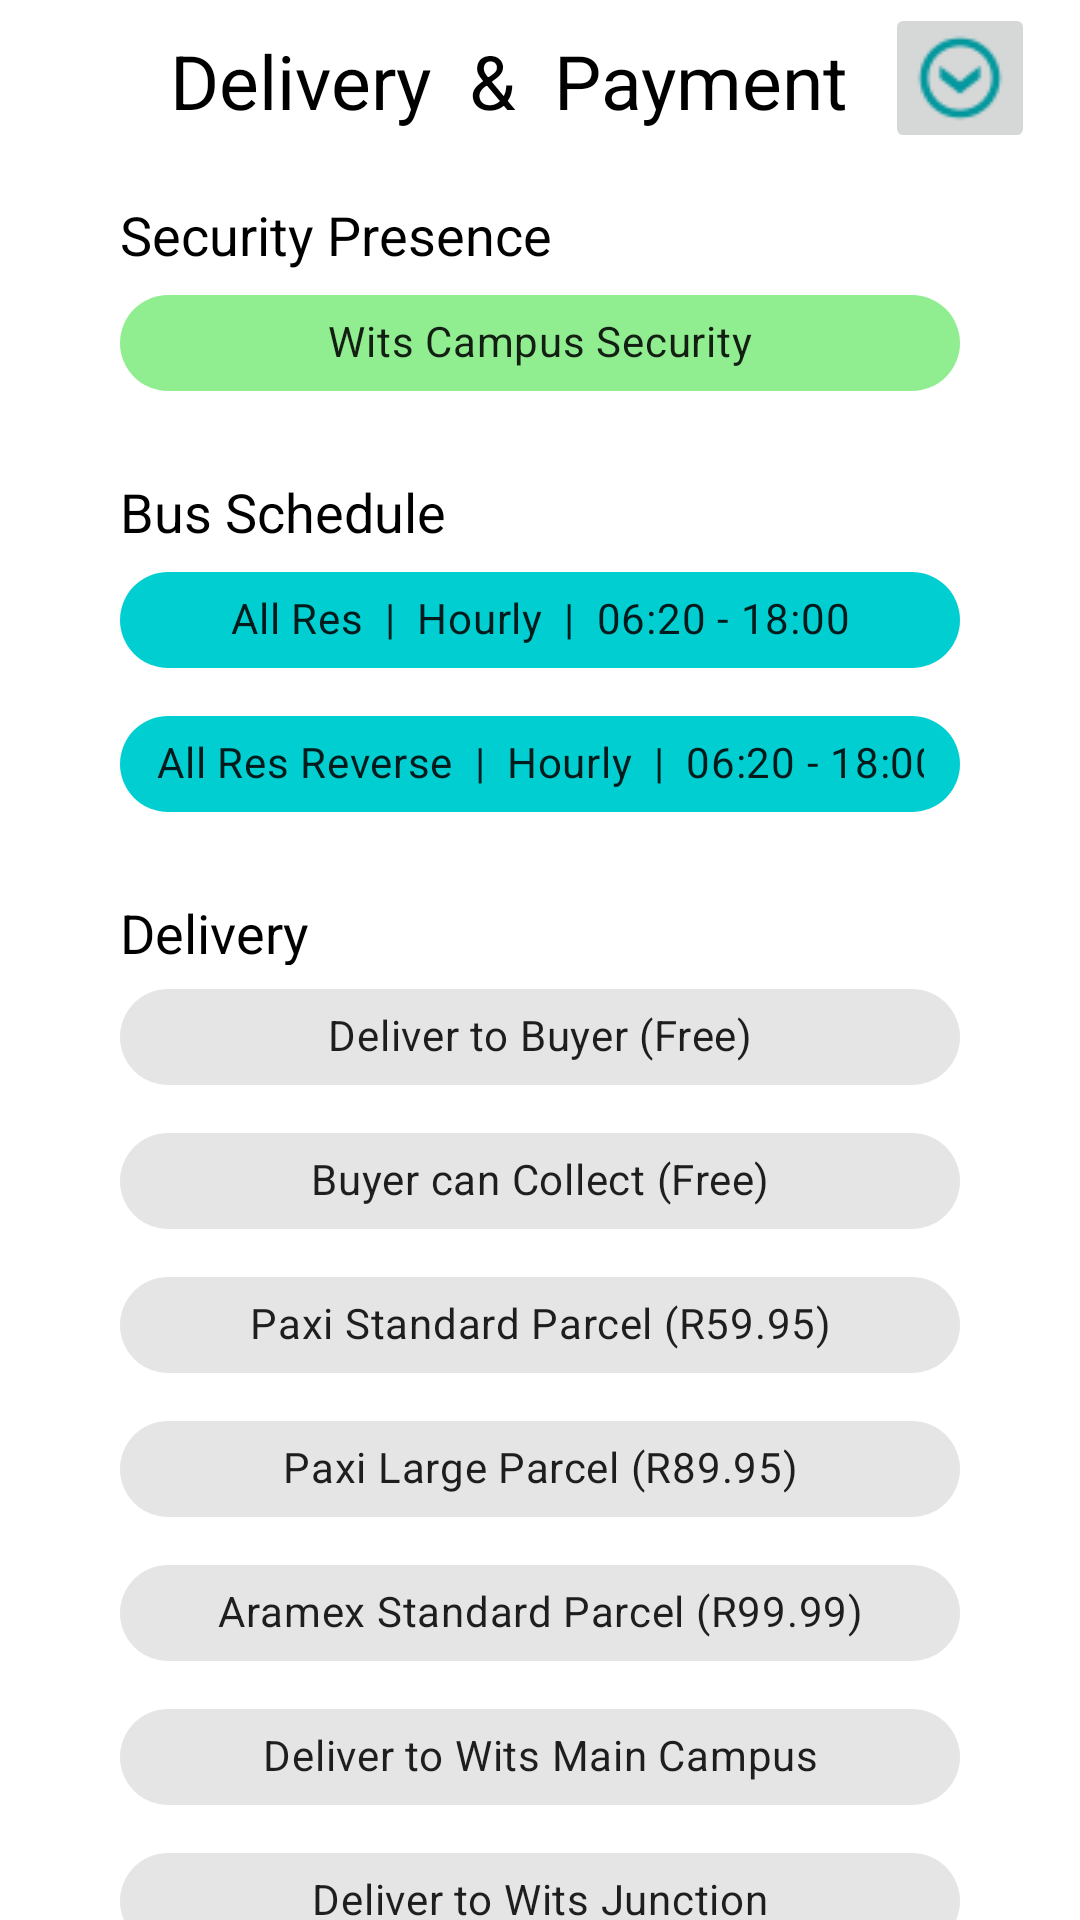

Icons on this 1080×1920 Android screen, each with its box as (x1, y1, x2, y2):
down tea: (897, 21, 1023, 135)
